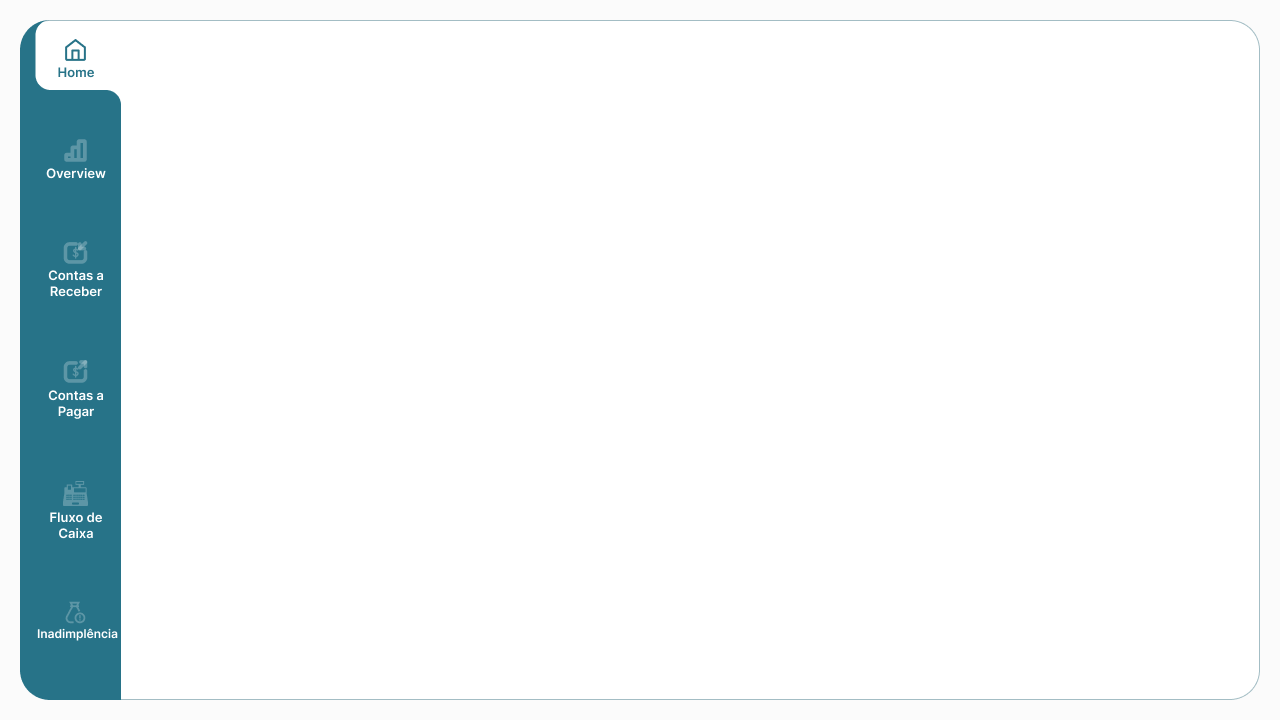

The dashboard page shown, as its layout file describes it:
{"tool":"powerbi","page":{"name":"Home","canvas":[1280,720],"ordinal":0},"visuals":[{"type":"pageNavigator","box":[355.7,340,685.7,148.6],"z":1000}]}

Visuals, with their boxes in screenshot pixels (x1, y1, x2, y2), scaled from the page's 1280x720 canvas onto the 1280x720 screenshot:
pageNavigator: <box>356,340,1041,489</box>
